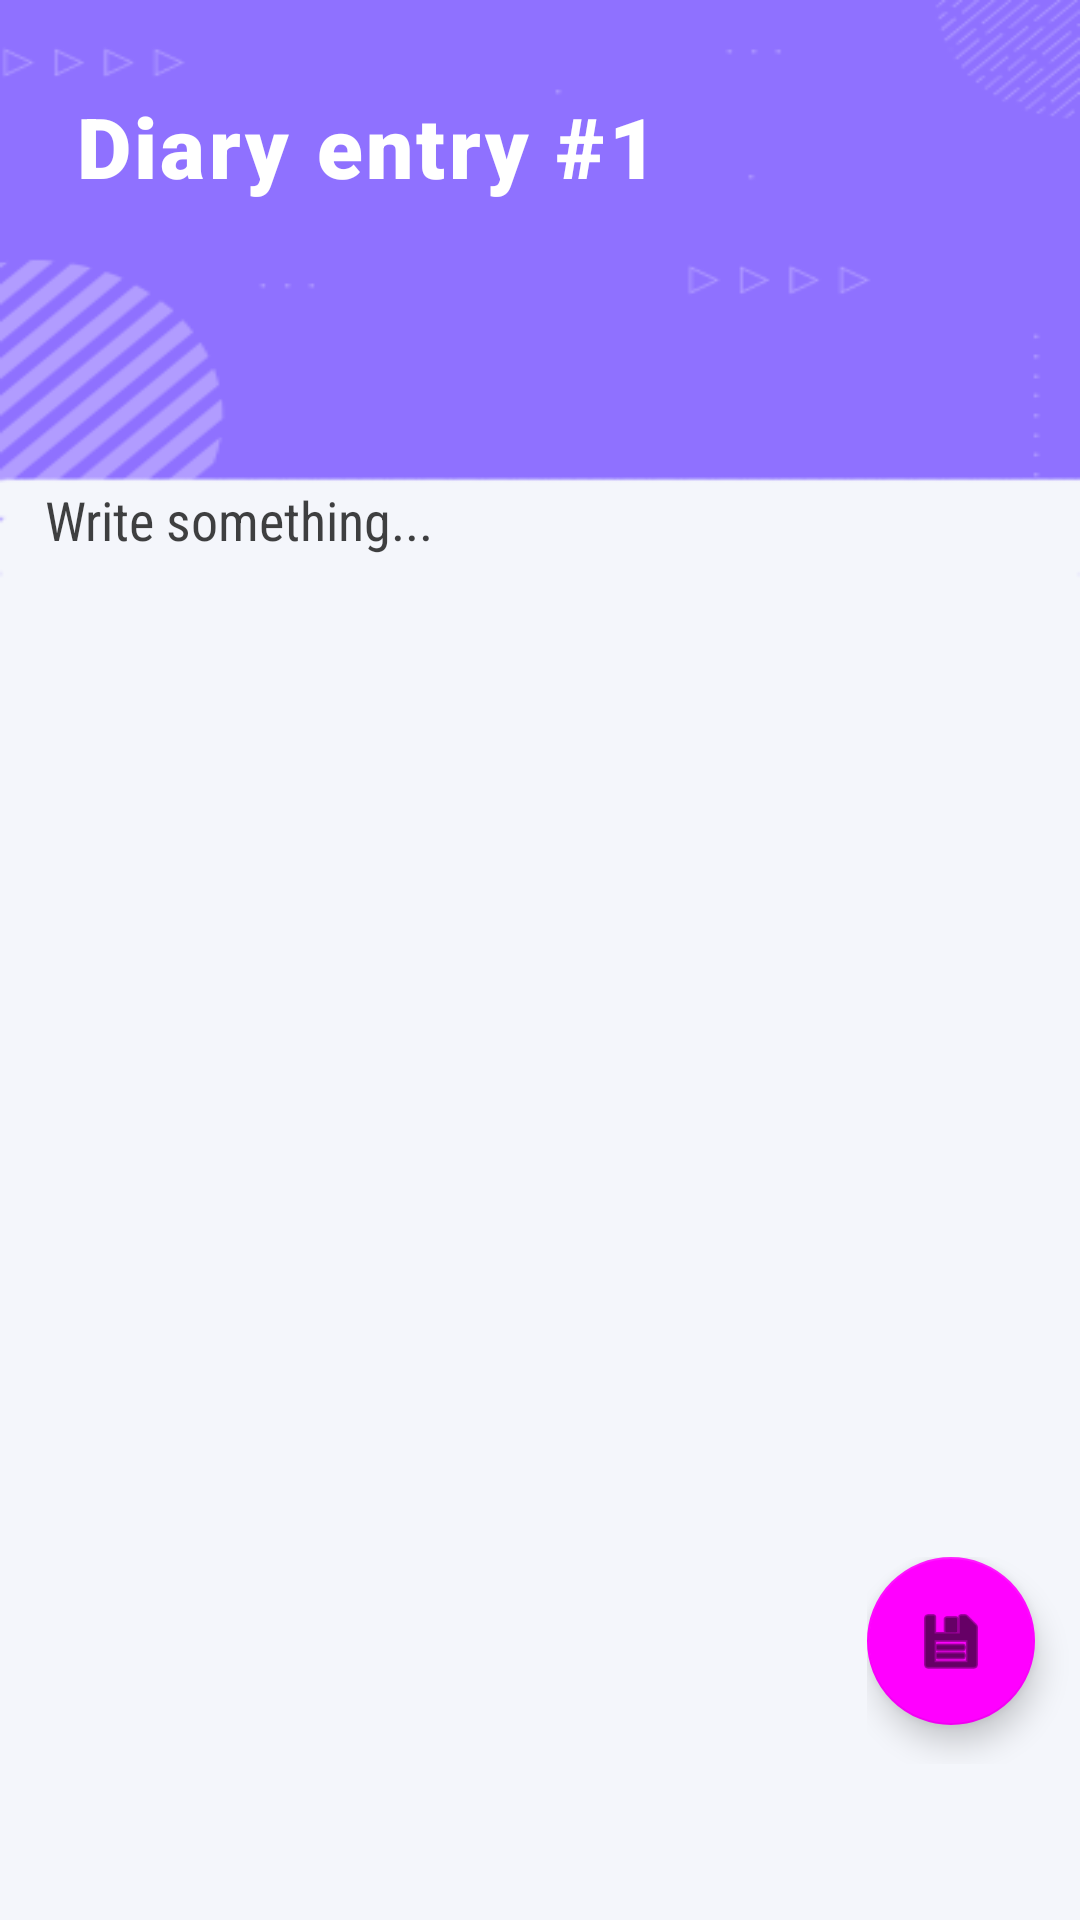

Named icons in this screenshot (1080w x 1920h) and their centers, (x=x, y=y):
save: (x=951, y=1641)
